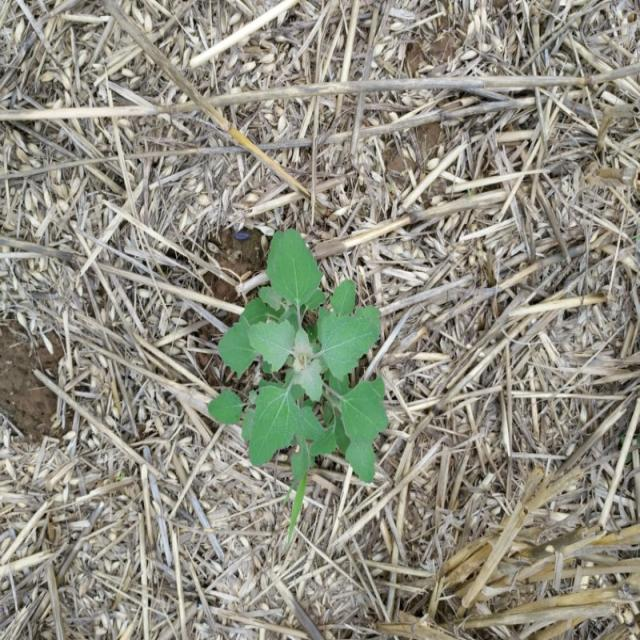goosefoots: (202, 228, 420, 507)
